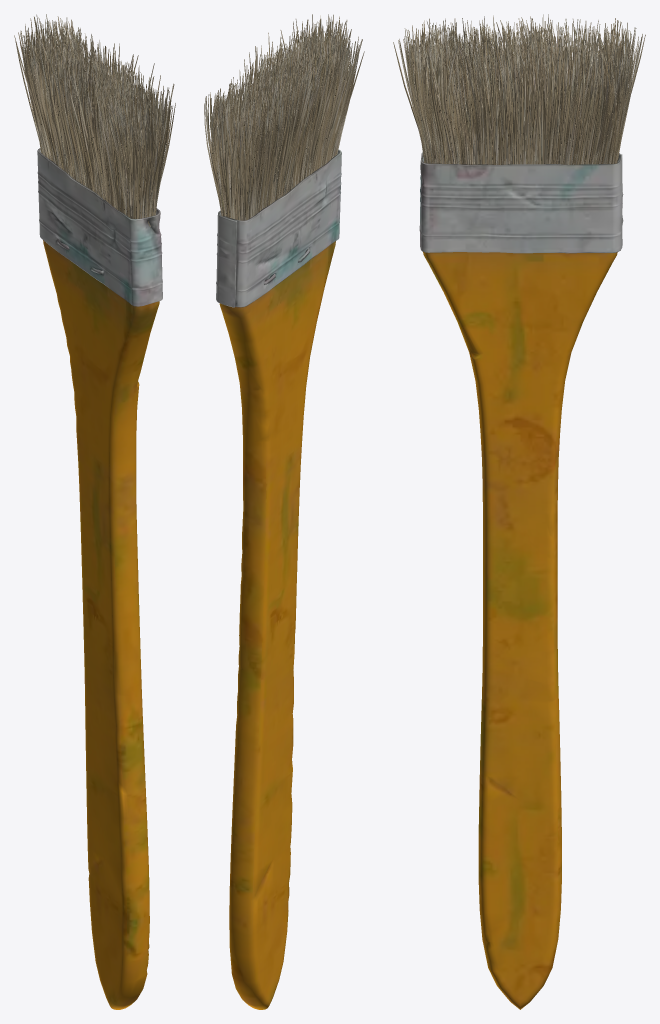
The model's file is paintbrush-1.glb.
The picture shows the model from 3 angles, left to right: view 1: azimuth 30°, elevation 25°; view 2: azimuth 150°, elevation 25°; view 3: azimuth 270°, elevation 25°; orthographic projection.
Visible parts, largest first — view 1: brush_01_mesh_00; view 2: brush_01_mesh_00; view 3: brush_01_mesh_00.
Boxes of the visible parts, left/top/right/bottom form: brush_01_mesh_00: left=14, top=14, right=175, bottom=1009; brush_01_mesh_00: left=204, top=14, right=364, bottom=1009; brush_01_mesh_00: left=393, top=14, right=645, bottom=1009.
Size of the model in its own units: 0.0225 by 0.2693 by 0.0635.
Materials: 3 (3 with a texture image).
